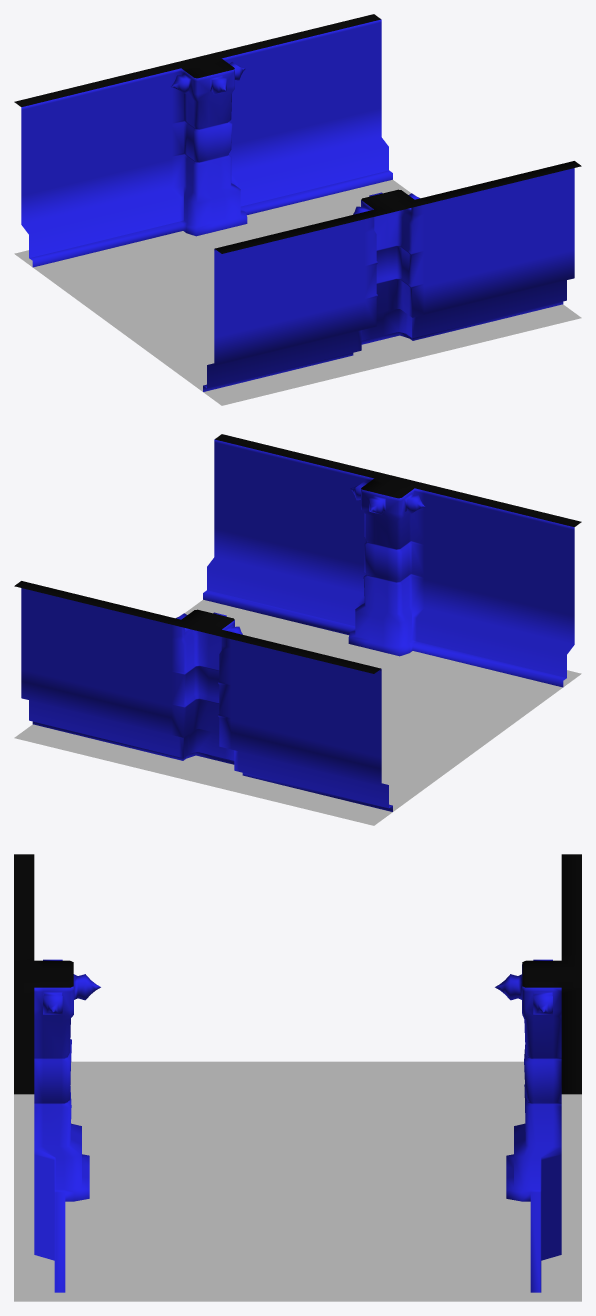
Rendered from S_Cell_5.fbx.
3 renders of one model, top to bottom at view 1: azimuth 30°, elevation 25°; view 2: azimuth 150°, elevation 25°; view 3: azimuth 270°, elevation 25°, orthographic. The views are drawn at different scales.
Visible parts, largest first — view 1: Wall_I_low.002, Wall_I_low.001, S_Ground; view 2: Wall_I_low.001, Wall_I_low.002, S_Ground; view 3: S_Ground, Wall_I_low.002, Wall_I_low.001.
Part boxes in pixels (left/top/right/bottom): Wall_I_low.002: left=14, top=14, right=392, bottom=267; Wall_I_low.001: left=203, top=161, right=581, bottom=391; S_Ground: left=14, top=179, right=581, bottom=405; Wall_I_low.001: left=203, top=434, right=581, bottom=687; Wall_I_low.002: left=14, top=581, right=392, bottom=811; S_Ground: left=14, top=599, right=581, bottom=825; S_Ground: left=14, top=1061, right=581, bottom=1301; Wall_I_low.002: left=495, top=854, right=581, bottom=1292; Wall_I_low.001: left=14, top=854, right=100, bottom=1292.
Bounding box in the file's own units: 20 × 8.06 × 20.
